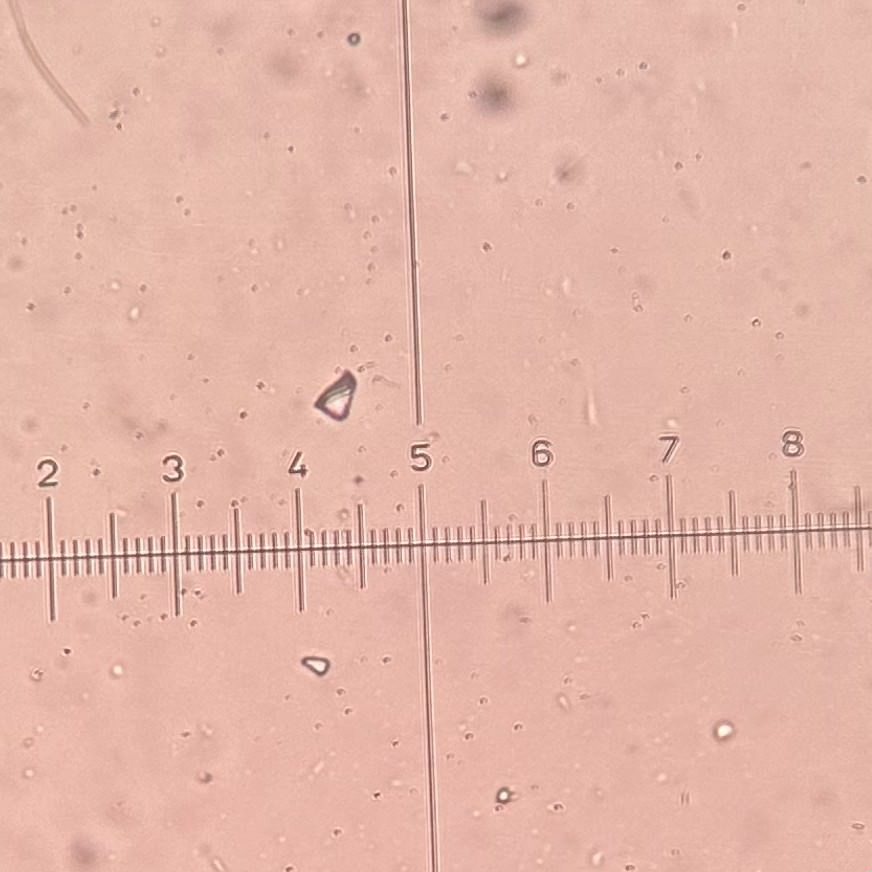not_microplastic: (3, 1, 94, 134), (313, 370, 366, 424), (296, 652, 336, 678), (711, 721, 734, 738), (495, 788, 518, 805), (513, 44, 527, 67)
